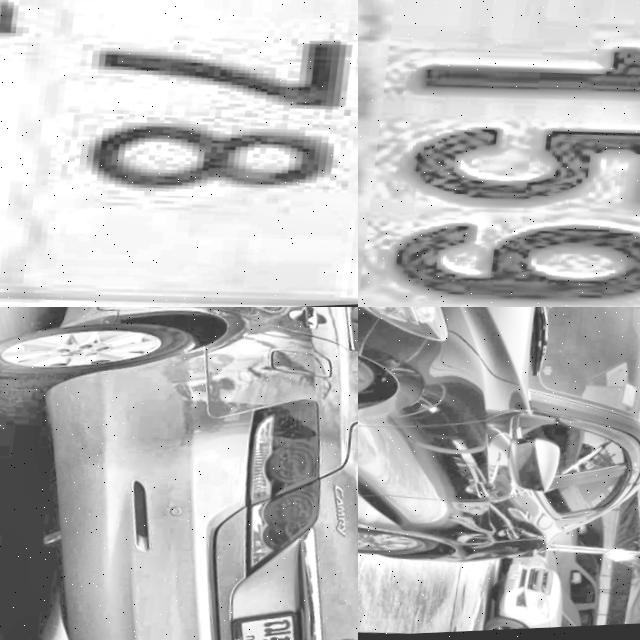license-plate: (0, 0, 358, 307), (358, 0, 640, 307), (224, 608, 324, 640)
